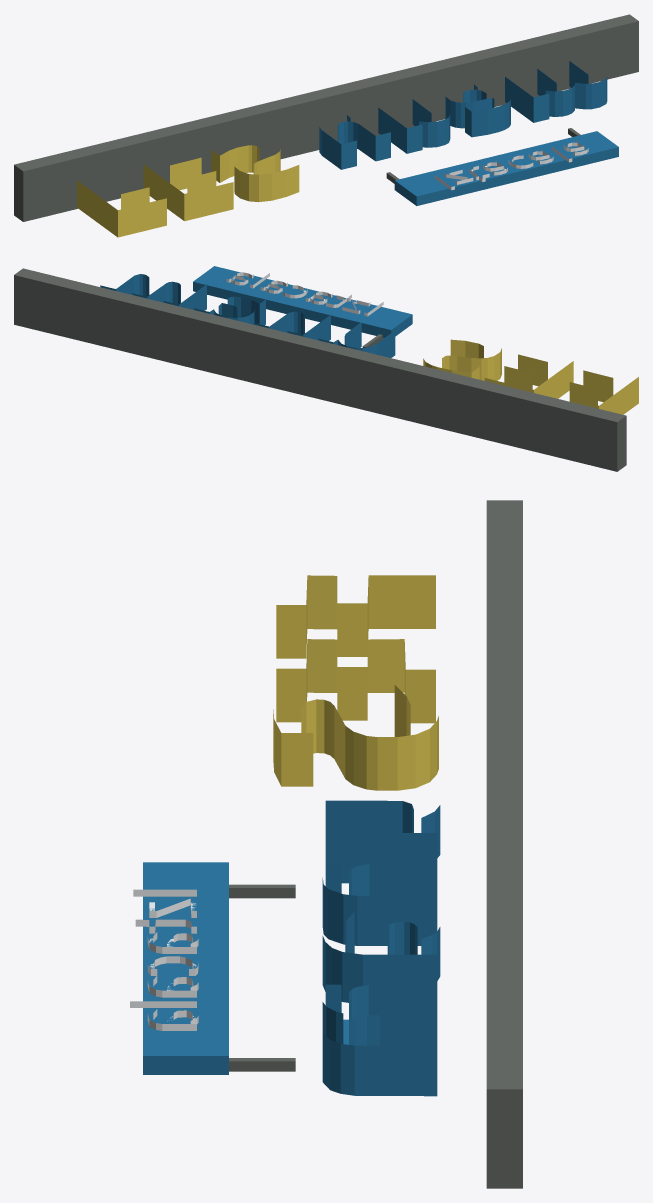
The model's file is letras_fesi.glb.
3 views of the same model, one above another, from view 1: azimuth 30°, elevation 25°; view 2: azimuth 150°, elevation 25°; view 3: azimuth 270°, elevation 25° (orthographic). The views are drawn at different scales.
Visible parts, largest first — view 1: BASE_black_plinth, UNAM_blue_extruded_letters, FES_gold_extruded_letters, IZTACALA_blue_sign_board, IZTACALA_white_raised_text; view 2: BASE_black_plinth, FES_gold_extruded_letters, IZTACALA_blue_sign_board, UNAM_blue_extruded_letters, IZTACALA_white_raised_text; view 3: UNAM_blue_extruded_letters, FES_gold_extruded_letters, BASE_black_plinth, IZTACALA_blue_sign_board, IZTACALA_white_raised_text, SIGN_hidden_support_left, SIGN_hidden_support_right.
Boxes of the visible parts, box(x1,y1,x2,y2) form: BASE_black_plinth: box(14, 14, 638, 221); UNAM_blue_extruded_letters: box(319, 61, 607, 169); FES_gold_extruded_letters: box(77, 145, 299, 237); IZTACALA_blue_sign_board: box(394, 131, 618, 205); IZTACALA_white_raised_text: box(435, 141, 588, 190); BASE_black_plinth: box(14, 268, 626, 471); FES_gold_extruded_letters: box(423, 339, 638, 414); IZTACALA_blue_sign_board: box(193, 266, 412, 337); UNAM_blue_extruded_letters: box(100, 274, 395, 357); IZTACALA_white_raised_text: box(226, 272, 383, 316); UNAM_blue_extruded_letters: box(322, 800, 440, 1096); FES_gold_extruded_letters: box(273, 575, 438, 790); BASE_black_plinth: box(486, 500, 522, 1188); IZTACALA_blue_sign_board: box(143, 862, 228, 1074); IZTACALA_white_raised_text: box(130, 889, 198, 1030); SIGN_hidden_support_left: box(229, 884, 295, 898); SIGN_hidden_support_right: box(229, 1058, 295, 1071).
Bounding box in the file's own units: 14.6 × 1.15 × 4.12.
